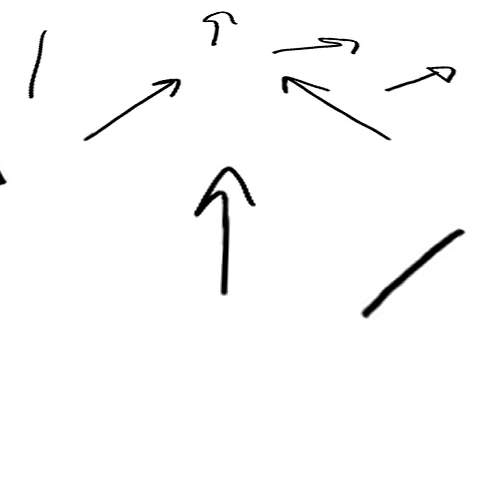arrow: (193, 164, 256, 302), (366, 226, 462, 313), (280, 73, 388, 140), (85, 78, 184, 142), (384, 64, 457, 94), (271, 36, 361, 57), (23, 28, 48, 97), (201, 9, 235, 43)
